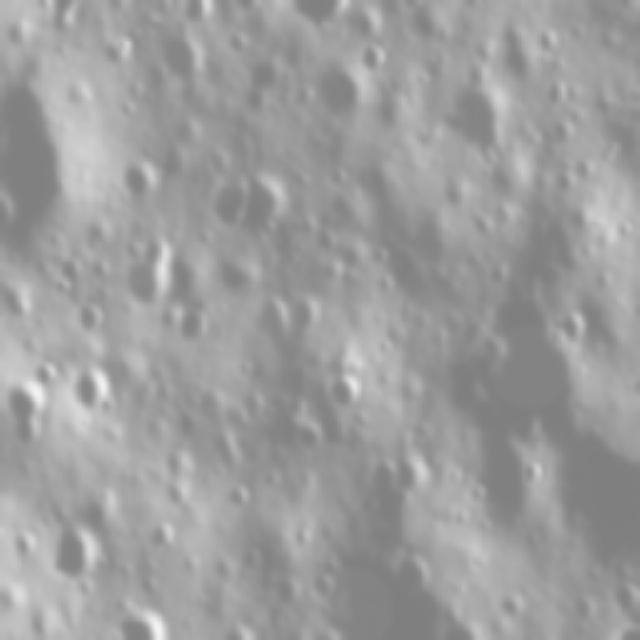crater: (44, 522, 105, 586), (117, 253, 168, 315), (96, 601, 177, 640), (200, 172, 246, 237), (67, 363, 116, 423), (381, 549, 439, 596), (248, 290, 290, 347), (283, 0, 357, 31), (118, 160, 164, 206), (325, 372, 370, 417), (284, 293, 324, 338), (554, 304, 592, 347), (390, 452, 427, 496), (353, 39, 390, 81), (175, 305, 211, 347), (68, 299, 108, 336), (142, 513, 176, 555), (171, 0, 212, 34), (28, 354, 58, 398), (606, 580, 640, 617), (168, 119, 205, 153), (304, 568, 338, 602), (566, 592, 600, 625), (226, 479, 254, 516), (540, 78, 572, 110), (323, 163, 355, 195), (497, 590, 528, 622), (548, 168, 580, 198), (531, 26, 560, 57), (568, 156, 600, 184), (221, 29, 253, 57), (549, 116, 576, 147), (522, 458, 548, 489), (228, 0, 263, 17), (268, 0, 298, 14), (454, 0, 494, 2)
